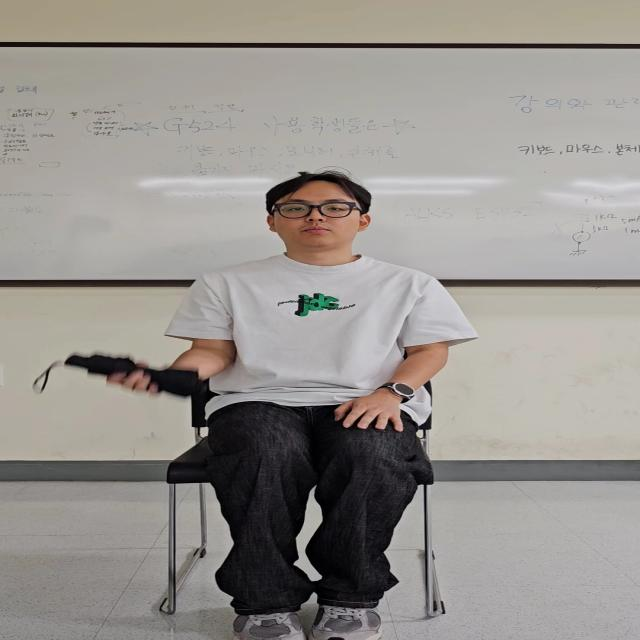curl: (103, 258, 248, 400)
